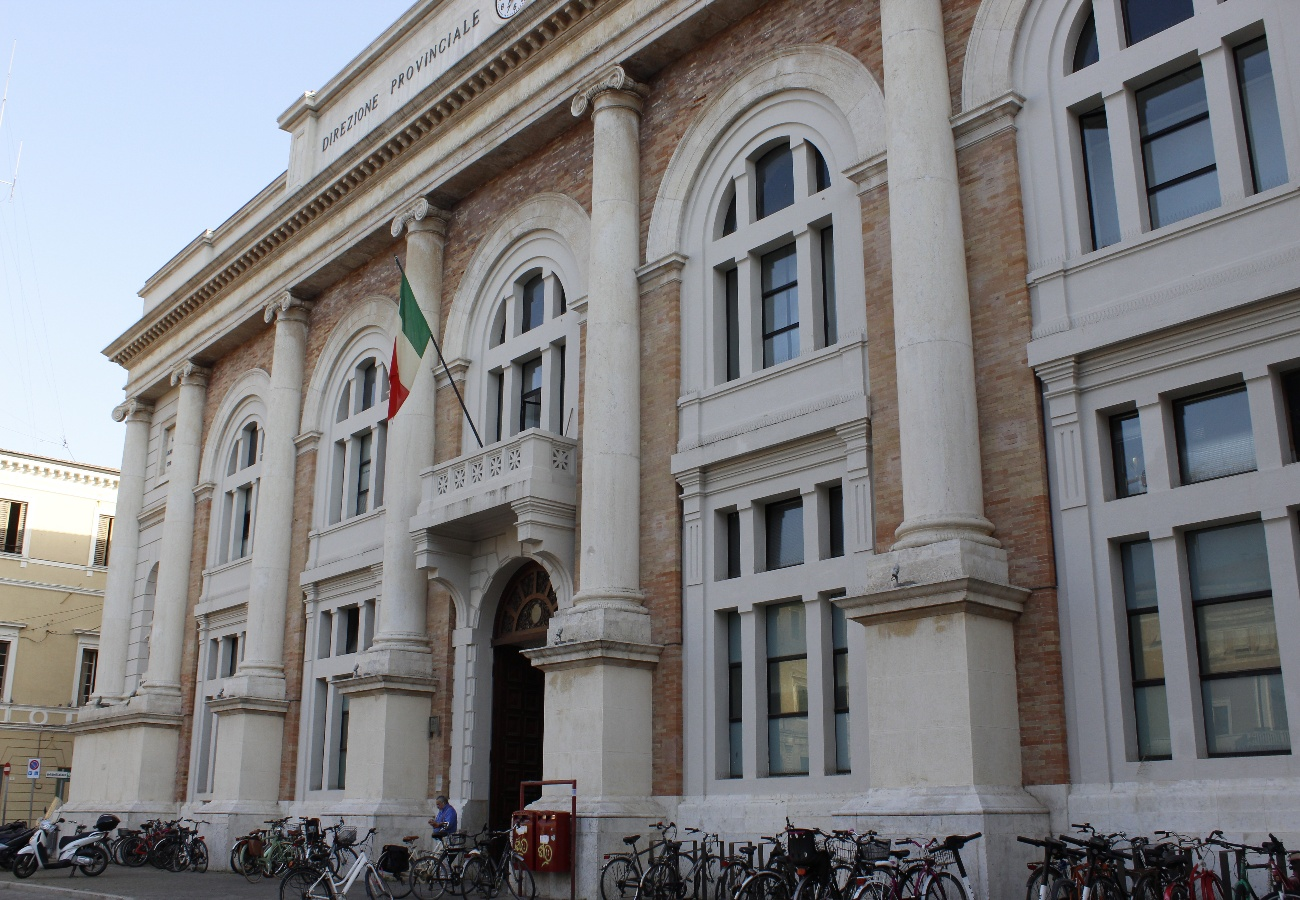Palazzo delle Poste: (59, 1, 1300, 866)
